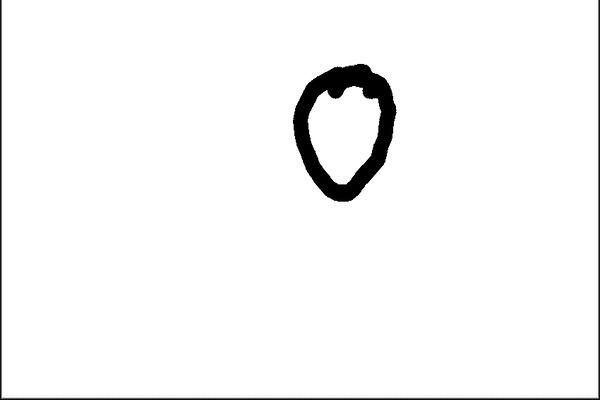O: (269, 54, 413, 212)
